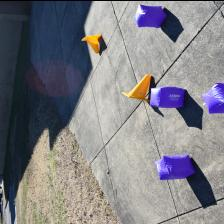cone: (122, 73, 152, 101), (82, 33, 102, 53)
cube: (154, 153, 196, 179), (200, 80, 224, 114), (149, 86, 186, 108), (134, 3, 166, 27)
